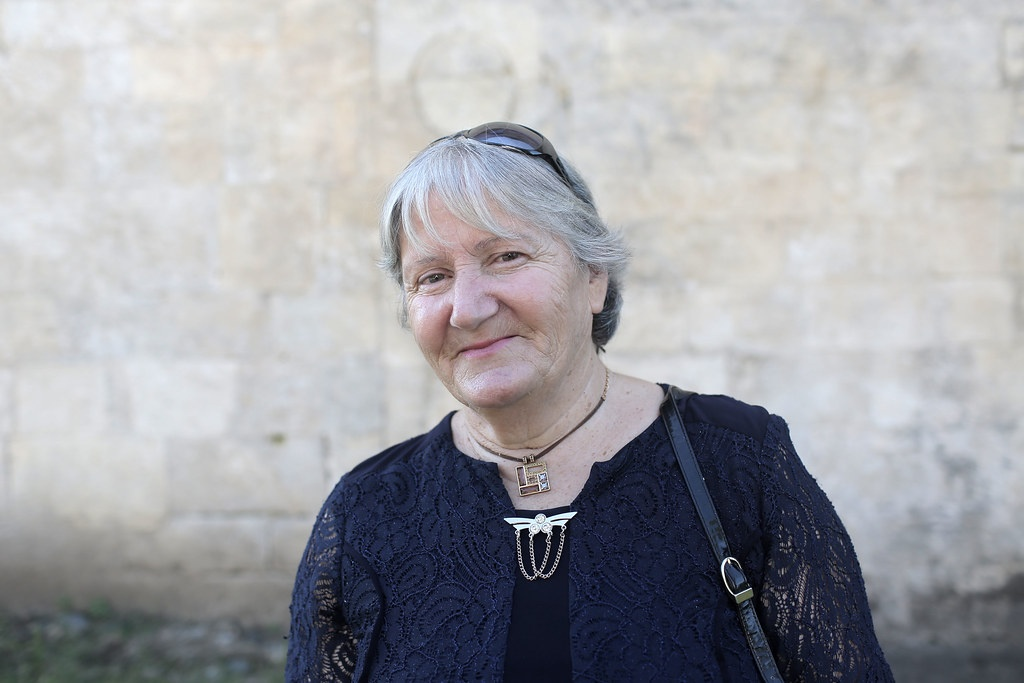without_mask: (387, 177, 595, 404)
